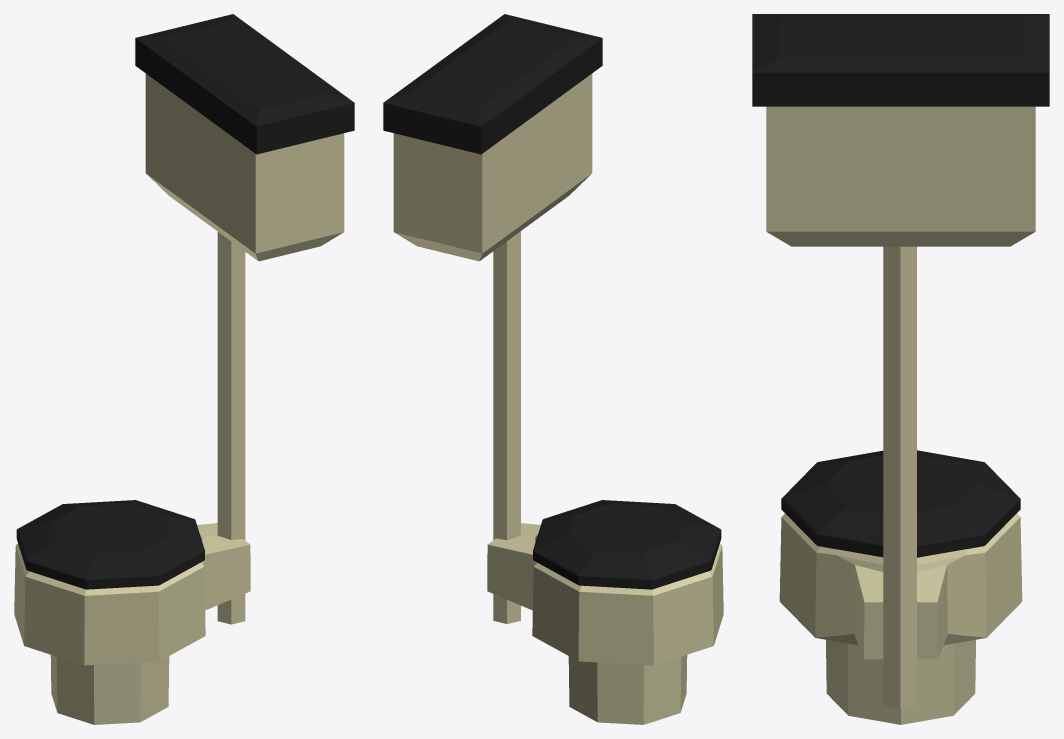
File: Toilet_001.fbx
3 views of the same model, side by side, from view 1: azimuth 30°, elevation 25°; view 2: azimuth 150°, elevation 25°; view 3: azimuth 270°, elevation 25° (orthographic). The views are drawn at different scales.
Visible parts, largest first — view 1: Toilet_001; view 2: Toilet_001; view 3: Toilet_001.
Part boxes in pixels (x1=…): Toilet_001: x1=14, y1=14, x2=354, y2=724; Toilet_001: x1=383, y1=14, x2=723, y2=724; Toilet_001: x1=752, y1=14, x2=1049, y2=724.
Size of the model in its own units: 296 by 630 by 230.
Materials: 1 (1 with a texture image).
